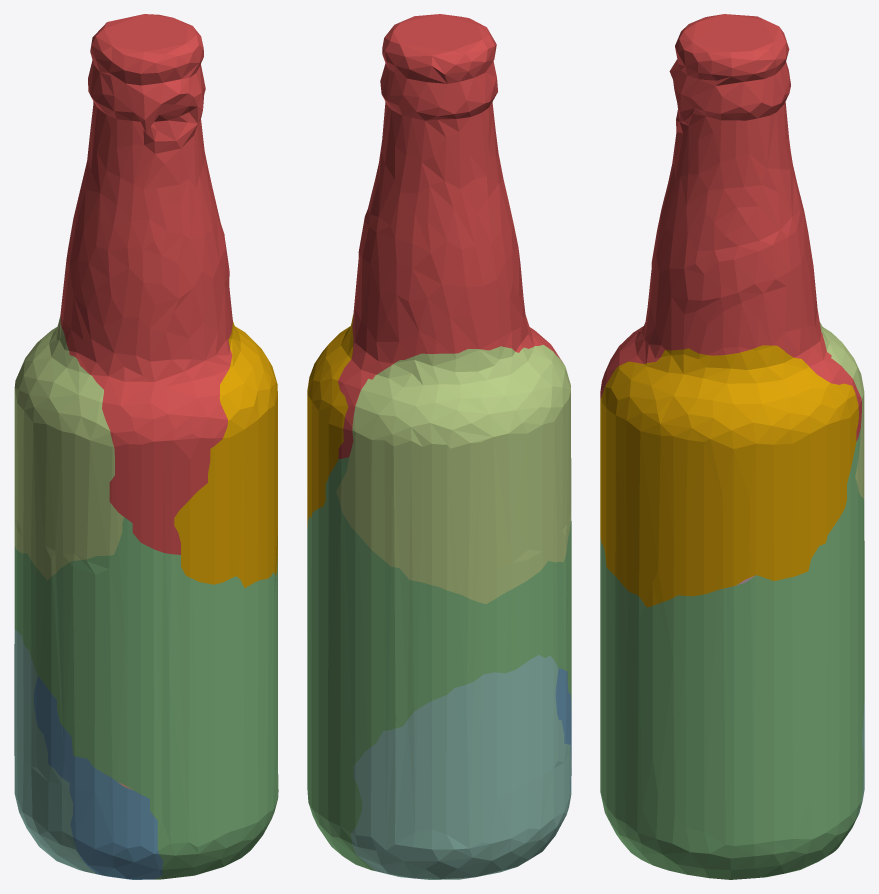
Rendered from mode_8_8pcs.glb.
3 views of the same model, side by side, from view 1: azimuth 30°, elevation 25°; view 2: azimuth 150°, elevation 25°; view 3: azimuth 270°, elevation 25° (orthographic).
Parts seen in each view (by area): view 1: piece_1.obj, piece_3.obj, piece_5.obj, piece_0.obj, piece_2.obj, piece_4.obj; view 2: piece_5.obj, piece_1.obj, piece_3.obj, piece_4.obj, piece_0.obj, piece_2.obj; view 3: piece_3.obj, piece_0.obj, piece_1.obj, piece_5.obj.
Part boxes in pixels (x1=…): piece_1.obj: x1=60, y1=14, x2=232, y2=554; piece_3.obj: x1=14, y1=517, x2=278, y2=879; piece_5.obj: x1=14, y1=317, x2=123, y2=580; piece_0.obj: x1=174, y1=322, x2=277, y2=587; piece_2.obj: x1=34, y1=676, x2=163, y2=879; piece_4.obj: x1=14, y1=628, x2=95, y2=873; piece_5.obj: x1=336, y1=344, x2=571, y2=603; piece_1.obj: x1=338, y1=14, x2=562, y2=458; piece_3.obj: x1=307, y1=457, x2=571, y2=870; piece_4.obj: x1=350, y1=655, x2=571, y2=879; piece_0.obj: x1=307, y1=313, x2=353, y2=527; piece_2.obj: x1=555, y1=668, x2=571, y2=798; piece_3.obj: x1=600, y1=430, x2=864, y2=879; piece_0.obj: x1=600, y1=345, x2=858, y2=607; piece_1.obj: x1=600, y1=14, x2=861, y2=441; piece_5.obj: x1=819, y1=322, x2=864, y2=500.
Size of the model in its own units: 0.2984 by 1 by 0.2976.
